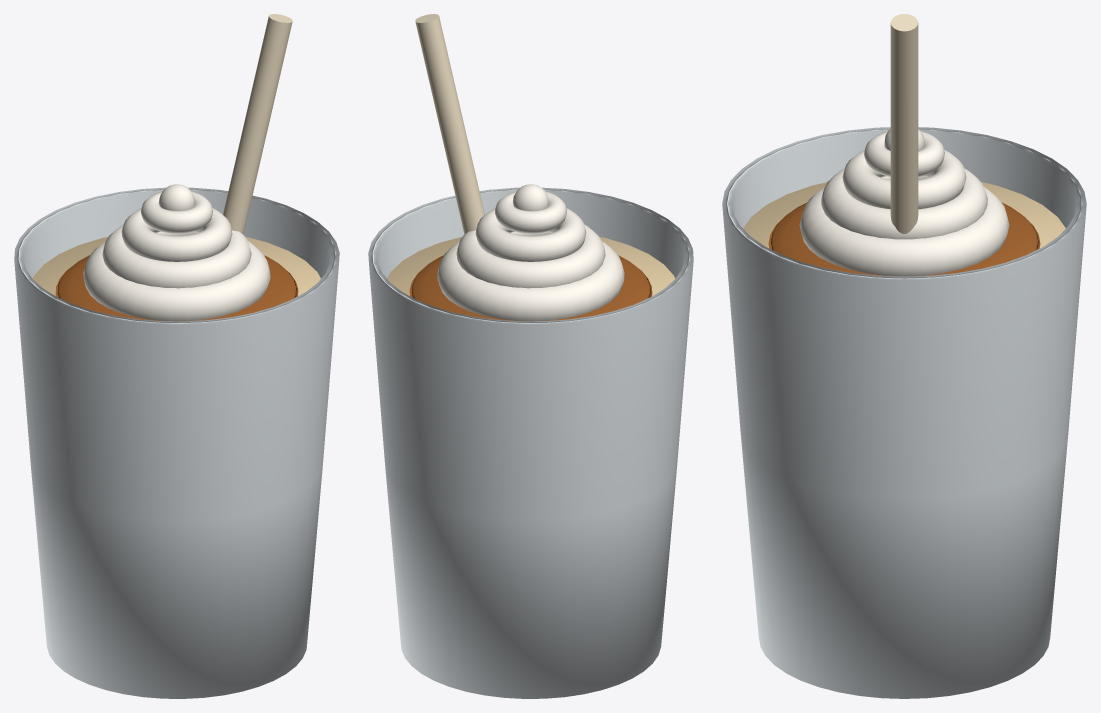
Rendered from alba-apple-pie-smoothie.glb.
3 renders of one model, left to right at view 1: azimuth 30°, elevation 25°; view 2: azimuth 150°, elevation 25°; view 3: azimuth 270°, elevation 25°, orthographic. The views are drawn at different scales.
Size of the model in its own units: 0.08 by 0.1633 by 0.08.
